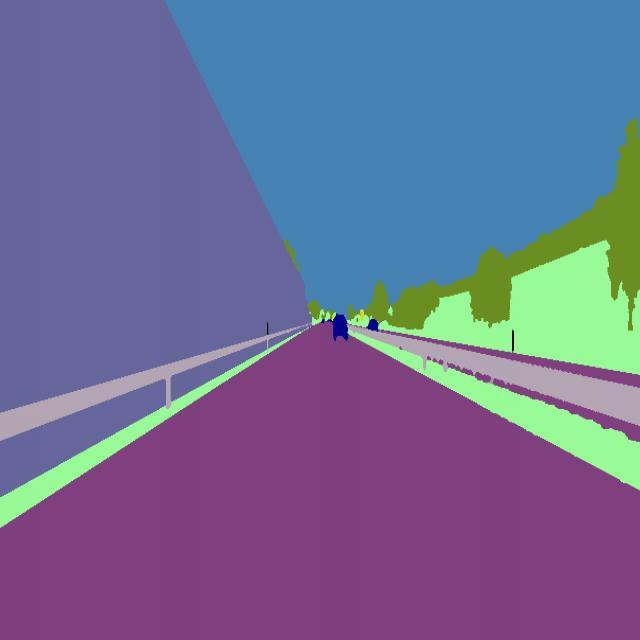safe: (328, 311, 351, 349), (366, 317, 382, 334)
